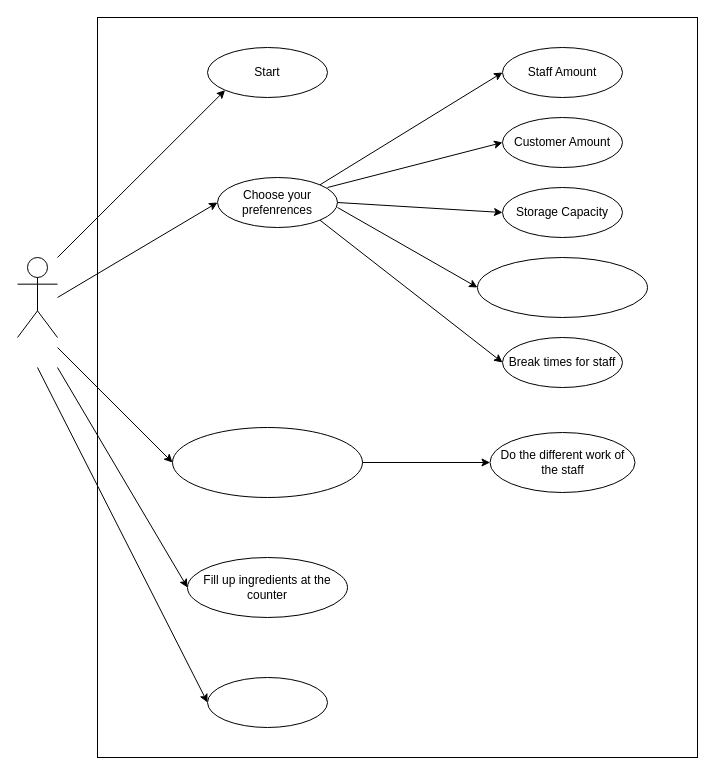
The diagram is 715 pixels wide and 775 high, and some of its shapes have lost their labels. Here are the shapes that lost their labels. From the top down, the centre of each, then its label:
the point at 37,297: Actor
the point at 562,287: Ingredient capacity in the counter
the point at 267,462: Delegate staff to the different working stations
the point at 267,702: Fill up storage
